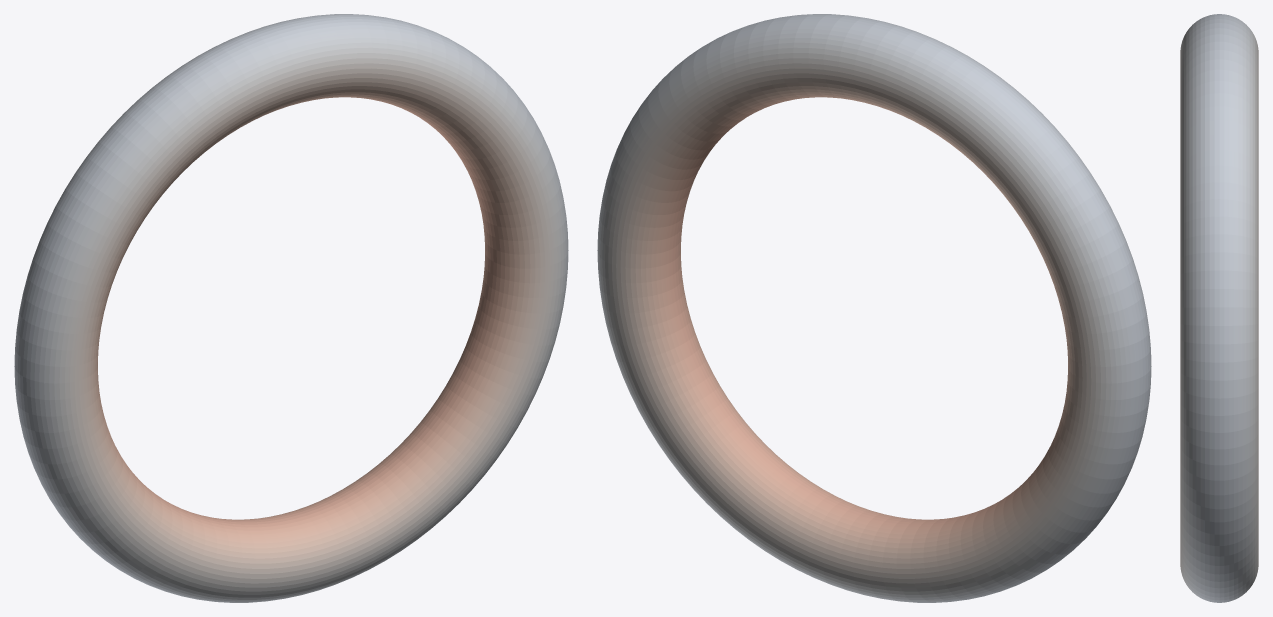
The picture shows the model from 3 angles, left to right: view 1: azimuth 30°, elevation 25°; view 2: azimuth 150°, elevation 25°; view 3: azimuth 270°, elevation 25°; orthographic projection. The views are drawn at different scales.
Parts seen in each view (by area): view 1: world; view 2: world; view 3: world.
Part boxes in pixels (box(x1,y1,x2,y2)): world: box(14, 14, 568, 602); world: box(597, 14, 1151, 602); world: box(1180, 14, 1258, 602).
Size of the model in its own units: 33.07 by 33.07 by 4.39.
